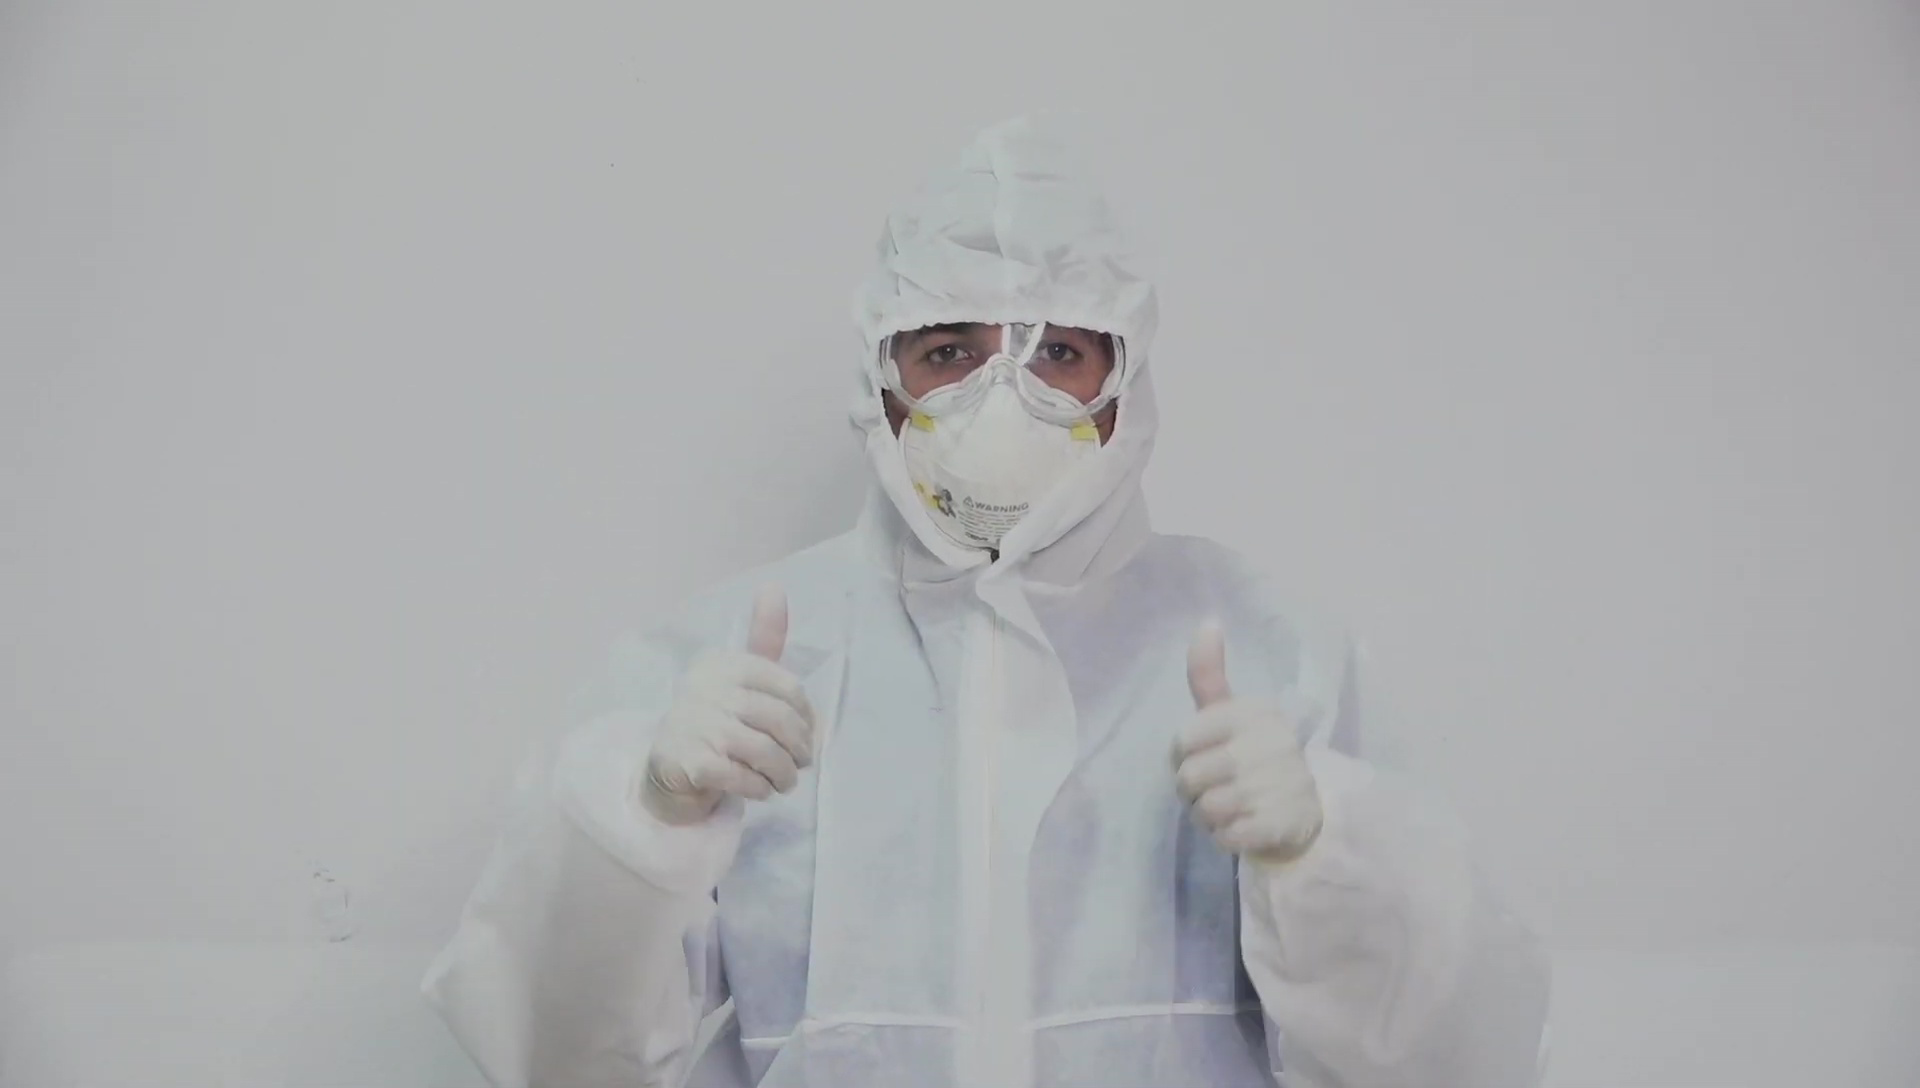Coverall: (424, 115, 1551, 1086)
Gloves: (638, 583, 816, 828), (1167, 621, 1325, 858)
Goggles: (879, 322, 1129, 428)
with_mask: (900, 364, 1102, 551)
